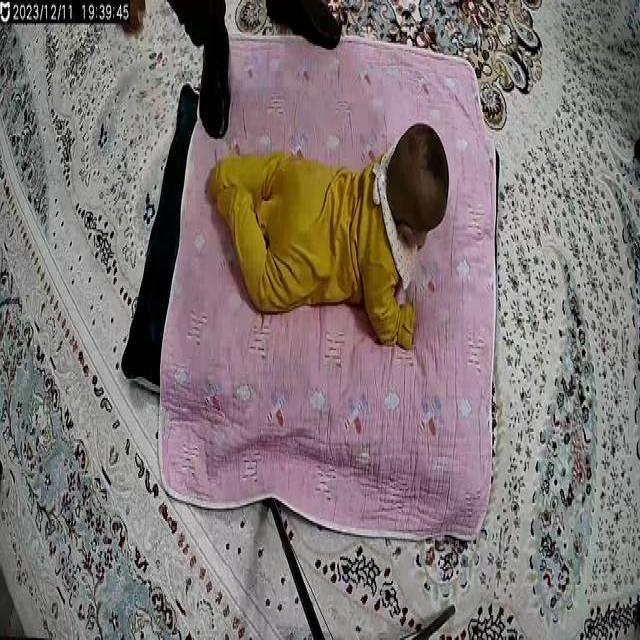baby: (203, 118, 454, 362)
